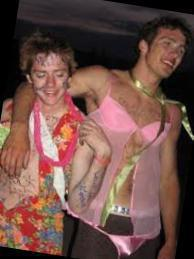Drunk: (31, 50, 67, 101), (154, 28, 184, 74)
